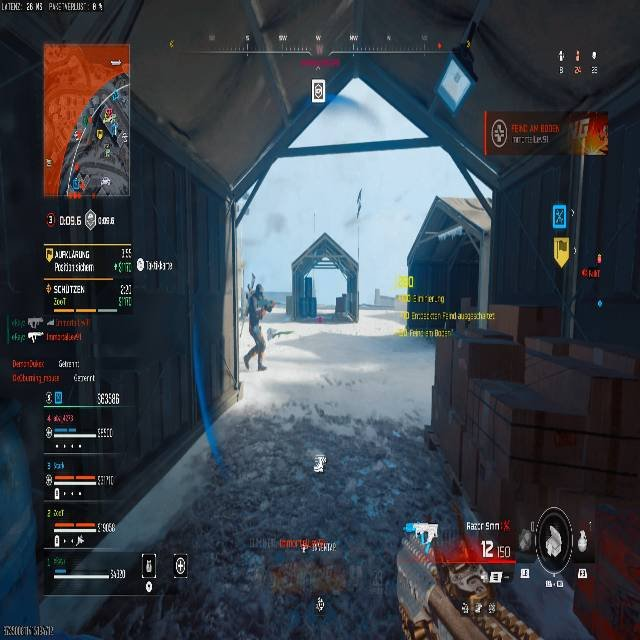head: (254, 283, 264, 296)
player: (242, 283, 275, 371)
